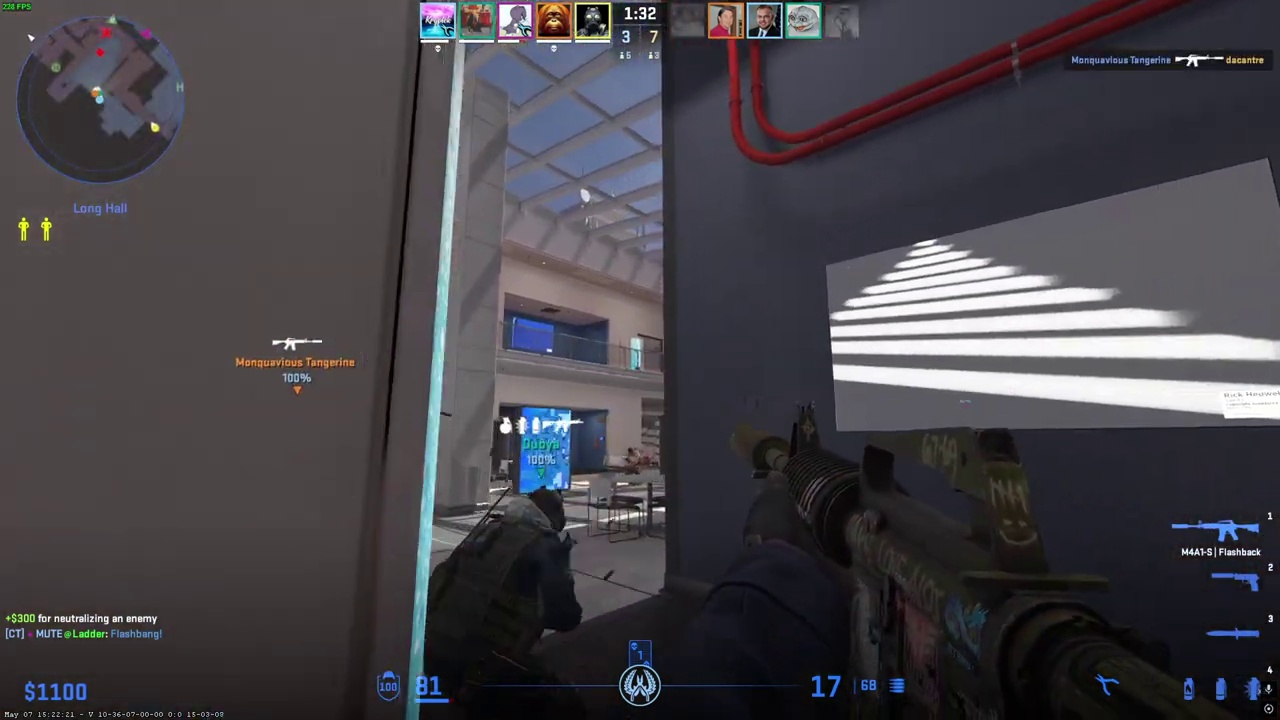CT: (420, 484, 583, 720)
